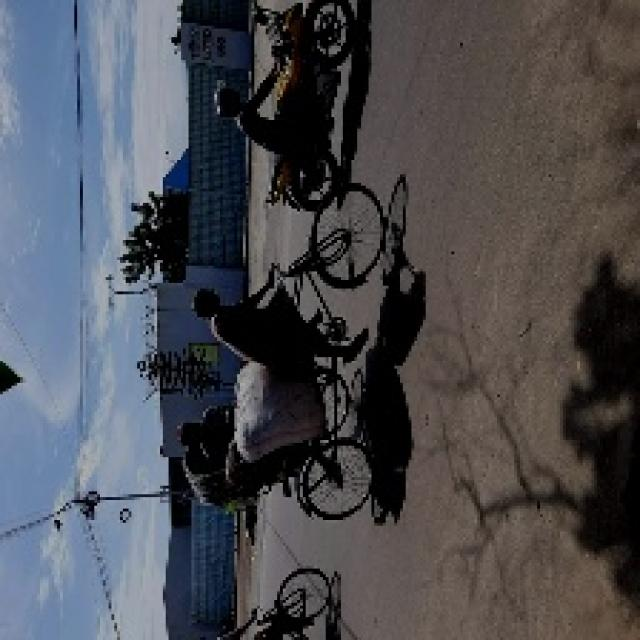bike: (247, 6, 345, 220)
rickshaw: (185, 186, 391, 521)
